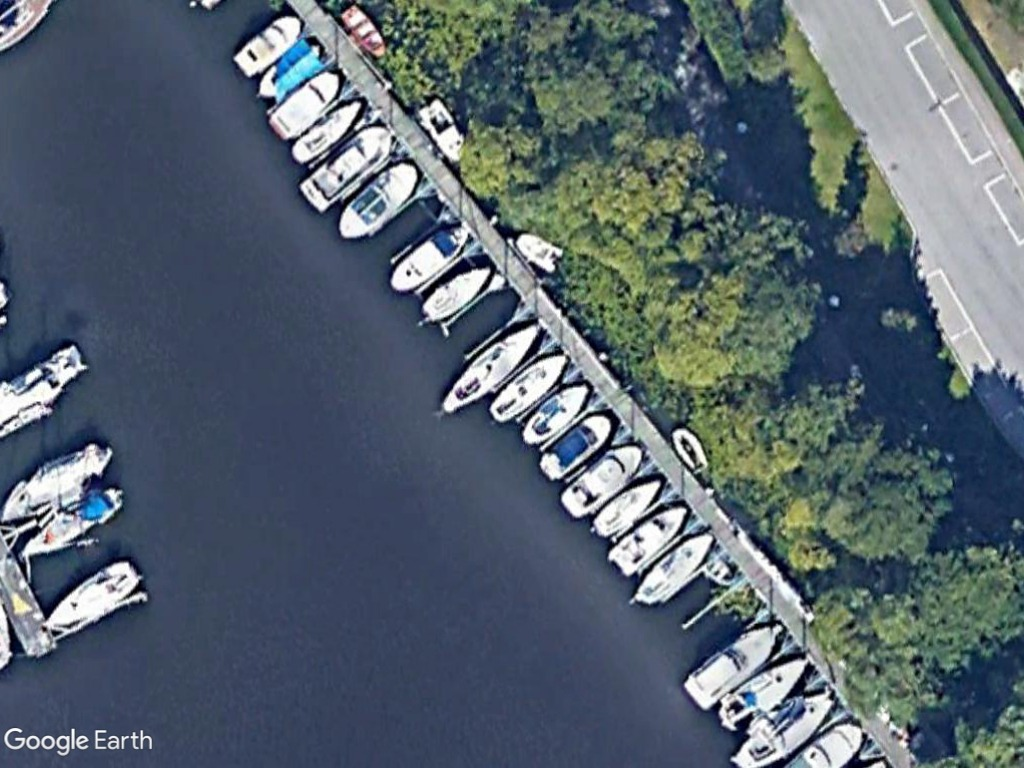boat: (0, 432, 117, 533), (434, 313, 544, 419), (682, 617, 790, 716), (11, 477, 129, 565), (41, 544, 146, 641), (718, 687, 843, 768), (298, 124, 398, 216), (717, 647, 814, 736), (329, 156, 423, 246), (385, 212, 476, 302), (555, 437, 648, 521), (629, 525, 717, 611), (605, 498, 692, 580), (484, 349, 573, 425), (263, 65, 348, 141), (533, 408, 616, 485), (285, 94, 371, 167), (228, 5, 306, 83), (586, 468, 664, 545), (417, 257, 503, 326), (514, 376, 595, 448)
